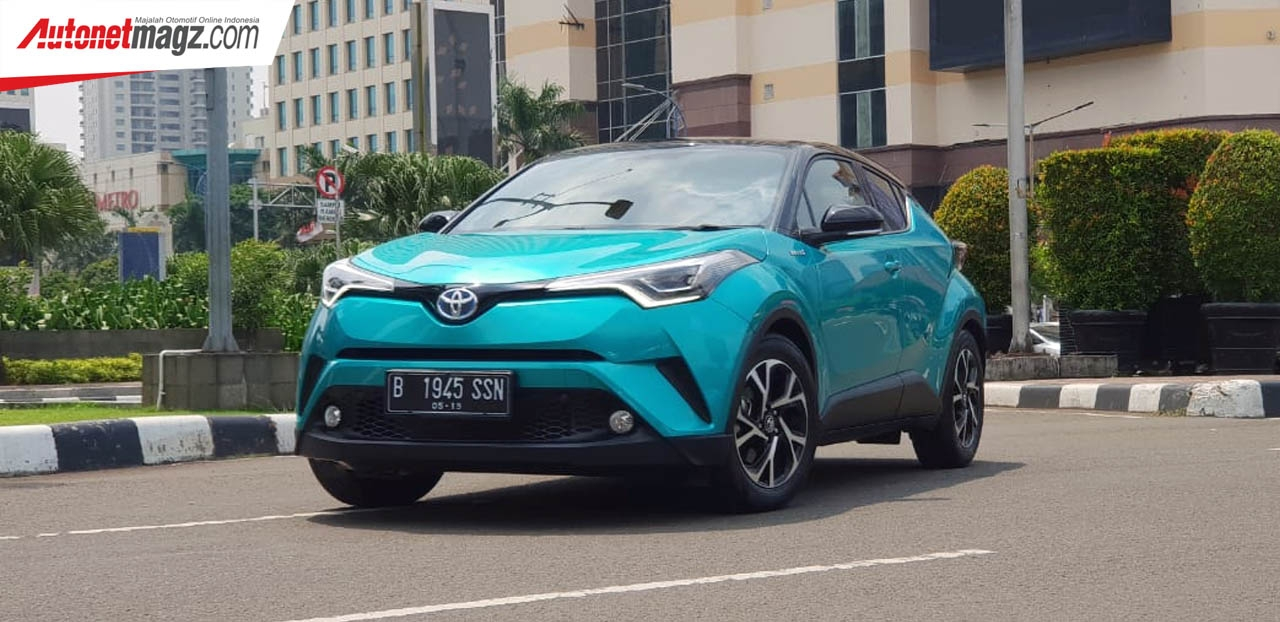plate: (386, 368, 507, 413)
